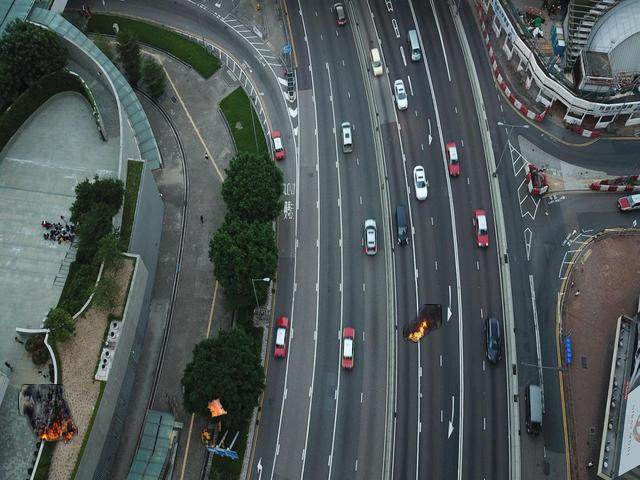fire: (165, 386, 226, 447), (19, 385, 76, 442), (403, 305, 441, 341)
